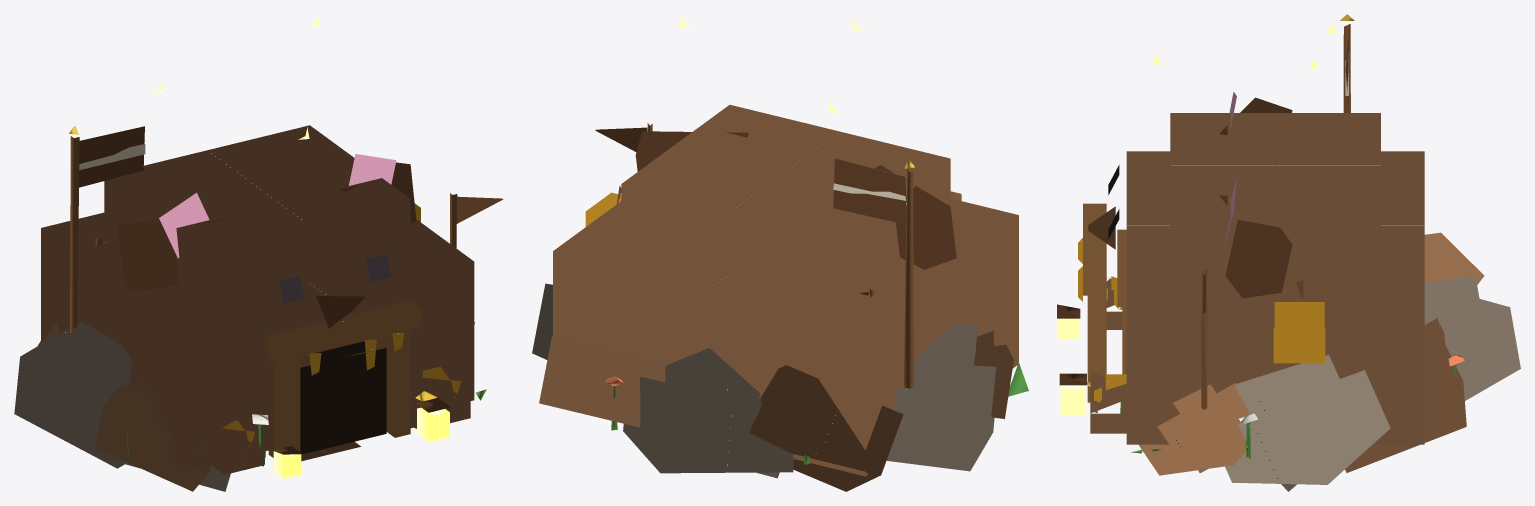
File: bear-honey-cave-blocky_lod1.glb
3 renders of one model, left to right at view 1: azimuth 30°, elevation 25°; view 2: azimuth 150°, elevation 25°; view 3: azimuth 270°, elevation 25°, orthographic. The views are drawn at different scales.
Parts seen in each view (by area): view 1: lv3, lv2; view 2: lv3; view 3: lv3, lv2.
Part boxes in pixels (x1=…): lv3: x1=14, y1=15, x2=503, y2=491; lv2: x1=95, y1=238, x2=433, y2=491; lv3: x1=532, y1=14, x2=1028, y2=491; lv3: x1=1057, y1=14, x2=1520, y2=484; lv2: x1=1114, y1=229, x2=1296, y2=491.
Bounding box in the file's own units: 2.12 × 1.88 × 1.95.
